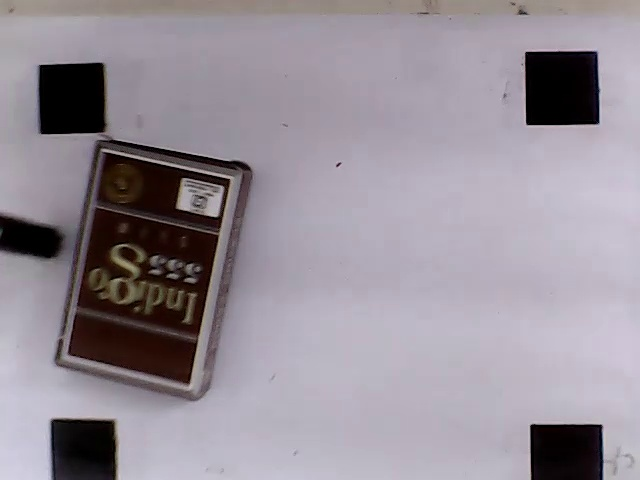BEX: (65, 151, 232, 388)
